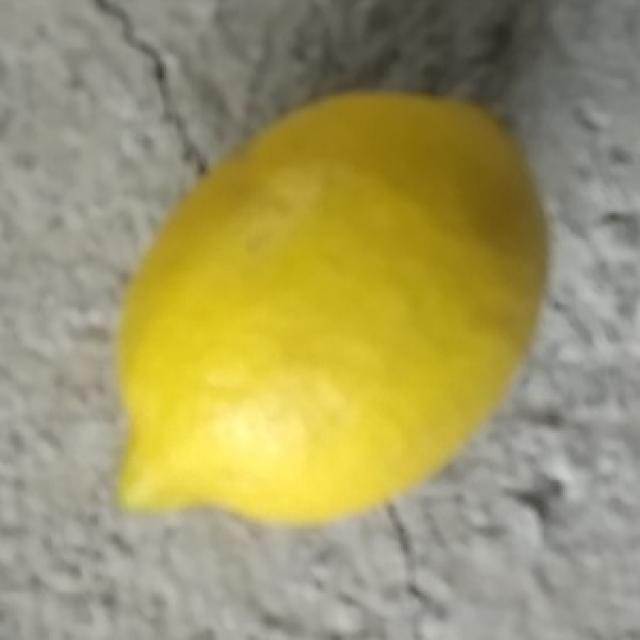Ripe: (110, 78, 553, 537)
